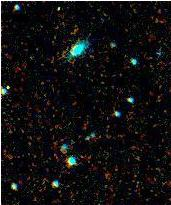star: (44, 0, 74, 24)
